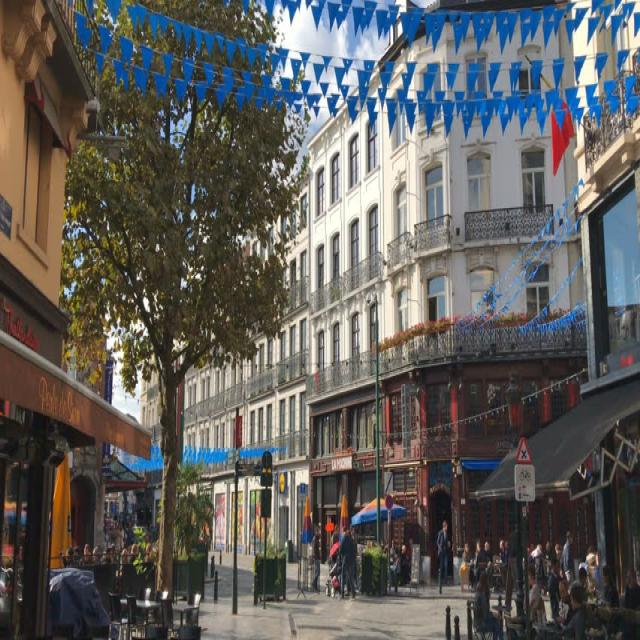body: (56, 537, 160, 600), (576, 541, 640, 640), (471, 569, 506, 639), (524, 537, 562, 596), (379, 536, 411, 597), (517, 561, 540, 639), (337, 523, 357, 600), (566, 584, 588, 640), (552, 577, 574, 628), (343, 528, 358, 597), (436, 518, 450, 586), (479, 540, 494, 596), (346, 522, 357, 598), (461, 542, 476, 594), (492, 532, 512, 571), (560, 529, 574, 584), (311, 525, 321, 592), (330, 523, 341, 576), (474, 536, 488, 569)
